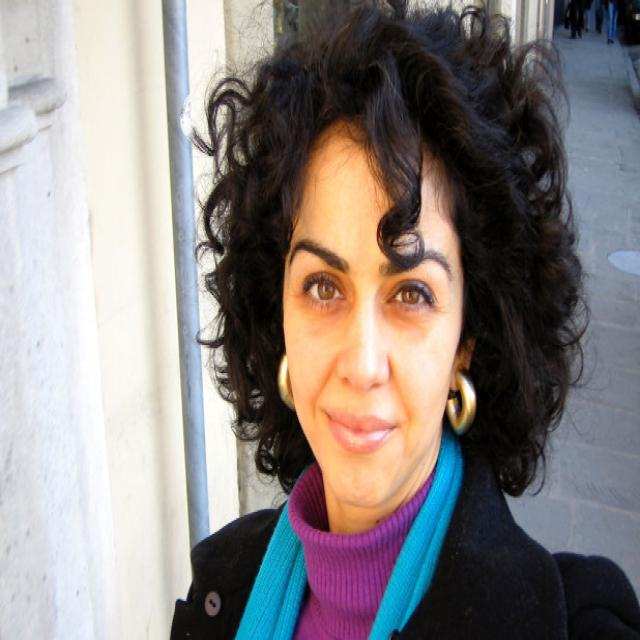human: (176, 17, 640, 640)
